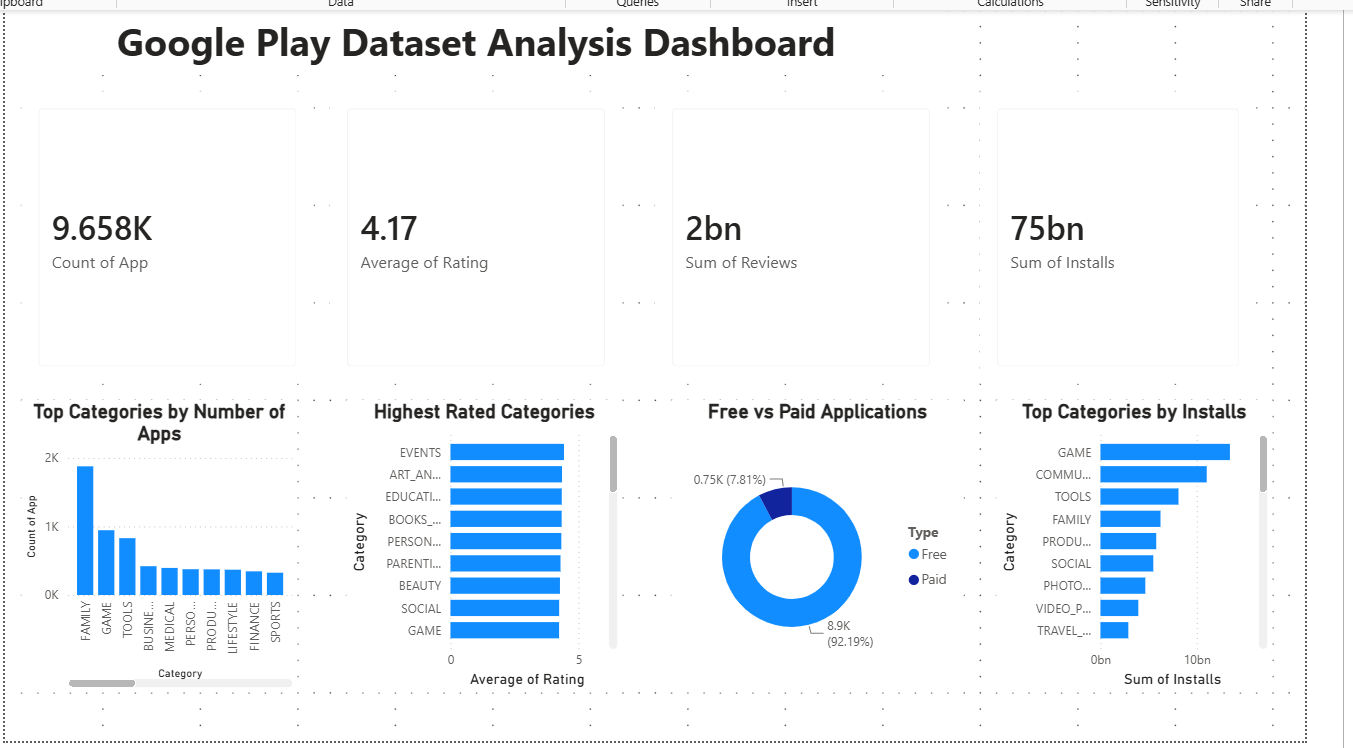

This screenshot's page, from the dashboard's own definition file:
{"tool":"powerbi","page":{"name":"Page 1","canvas":[1280,720],"ordinal":0},"visuals":[{"type":"cardVisual","fields":{"Data":["CountNonNull(Sheet1.App)"]},"box":[16,80,288,288],"z":0},{"type":"cardVisual","fields":{"Data":["Avg(Sheet1.Rating)"]},"box":[320,80,288,288],"z":1000},{"type":"cardVisual","fields":{"Data":["Sum(Sheet1.Reviews)"]},"box":[640,80,288,288],"z":2000},{"type":"cardVisual","fields":{"Data":["Sum(Sheet1.Installs)"]},"box":[960,80,272,288],"z":3000},{"type":"columnChart","title":"Top Categories by Number of Apps","fields":{"Category":["Sheet1.Category"],"Y":["CountNonNull(Sheet1.App)"]},"box":[16,384,272,288],"z":4000},{"type":"barChart","title":"Highest Rated Categories","fields":{"Y":["Avg(Sheet1.Rating)"],"Category":["Sheet1.Category"]},"box":[336,384,272,288],"z":5000},{"type":"donutChart","title":"Free vs Paid Applications","fields":{"Category":["Sheet1.Type"],"Y":["CountNonNull(Sheet1.App)"]},"box":[656,384,288,288],"z":5001},{"type":"clusteredBarChart","title":"Top Categories by Installs","fields":{"Category":["Sheet1.Category"],"Y":["Sum(Sheet1.Installs)"]},"box":[976,384,272,288],"z":5002},{"type":"textbox","box":[0,0,928,64],"z":5006}]}

Visuals, with their boxes on the page's 1280x720 design canvas (x1, y1, x2, y2). These are canvas units, not pixel positions in the 1353x748 screenshot, which may show the page scaled, cropped or inside an application window:
cardVisual - CountNonNull(Sheet1.App): [left=16, top=80, right=304, bottom=368]
cardVisual - Avg(Sheet1.Rating): [left=320, top=80, right=608, bottom=368]
cardVisual - Sum(Sheet1.Reviews): [left=640, top=80, right=928, bottom=368]
cardVisual - Sum(Sheet1.Installs): [left=960, top=80, right=1232, bottom=368]
"Top Categories by Number of Apps" columnChart: [left=16, top=384, right=288, bottom=672]
"Highest Rated Categories" barChart: [left=336, top=384, right=608, bottom=672]
"Free vs Paid Applications" donutChart: [left=656, top=384, right=944, bottom=672]
"Top Categories by Installs" clusteredBarChart: [left=976, top=384, right=1248, bottom=672]
textbox: [left=0, top=0, right=928, bottom=64]
